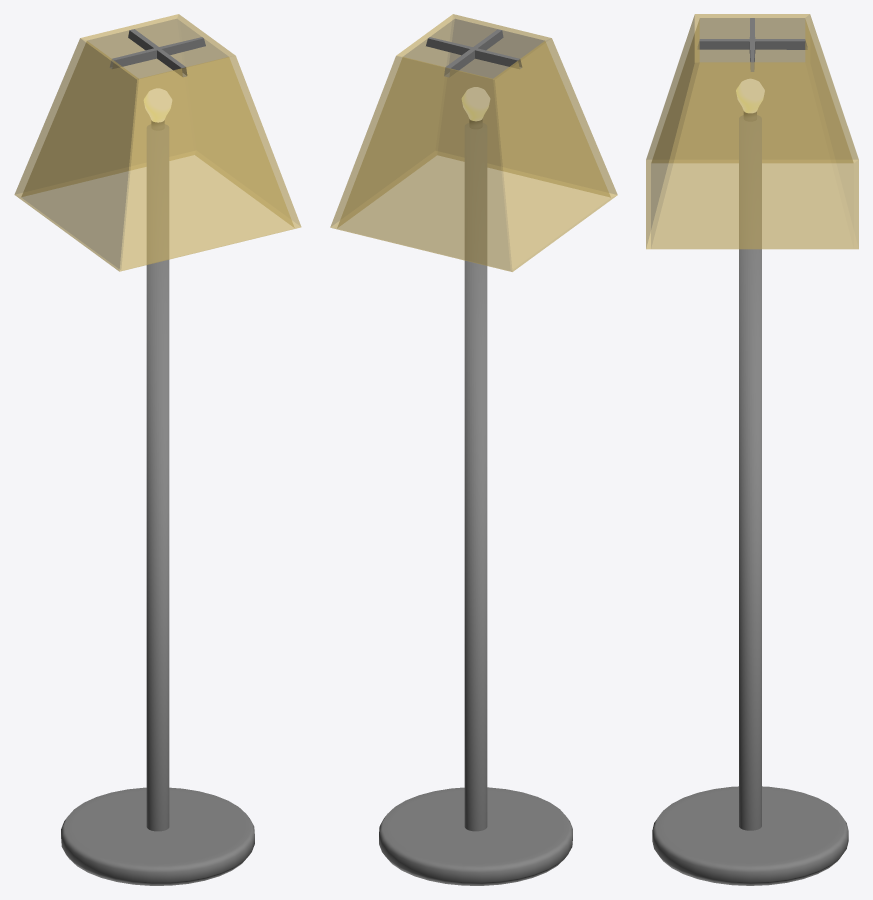
File: standing_lamp.glb
The picture shows the model from 3 angles, left to right: view 1: azimuth 30°, elevation 25°; view 2: azimuth 150°, elevation 25°; view 3: azimuth 270°, elevation 25°; orthographic projection.
Parts seen in each view (by area): view 1: LampShade_0, LampBase.001_1; view 2: LampShade_0, LampBase.001_1; view 3: LampShade_0, LampBase.001_1.
Boxes of the visible parts, <box> form: LampShade_0: <box>14,14,301,271</box>; LampBase.001_1: <box>61,88,254,885</box>; LampShade_0: <box>330,14,617,271</box>; LampBase.001_1: <box>379,87,572,885</box>; LampShade_0: <box>646,14,858,249</box>; LampBase.001_1: <box>652,79,848,885</box>.
Bounding box in the file's own units: 1.56 × 6.53 × 1.56.
